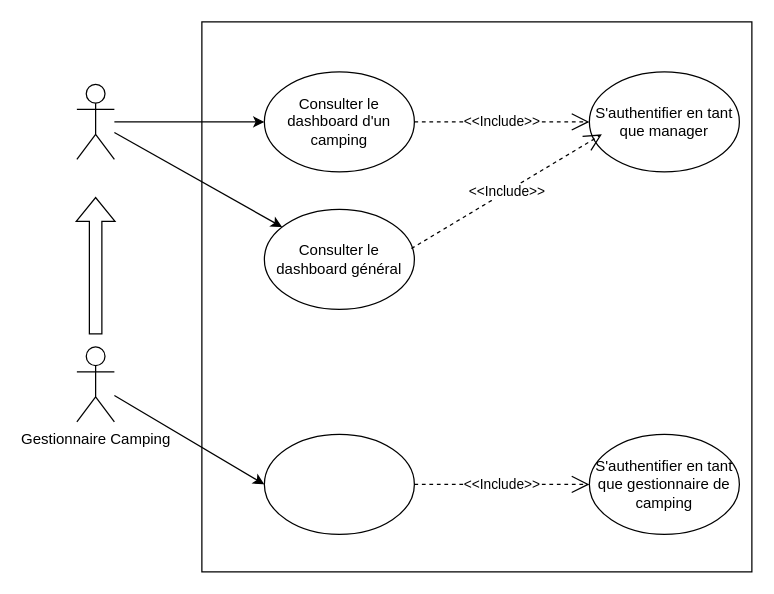
Image size: 774x594. Some labels were removed from this diagram. Here are the shapes that lost their labels. From the top down, the centre of each, then its label:
(95,121): Manager général
(338,483): Enregistrer l'adresse d'un client
